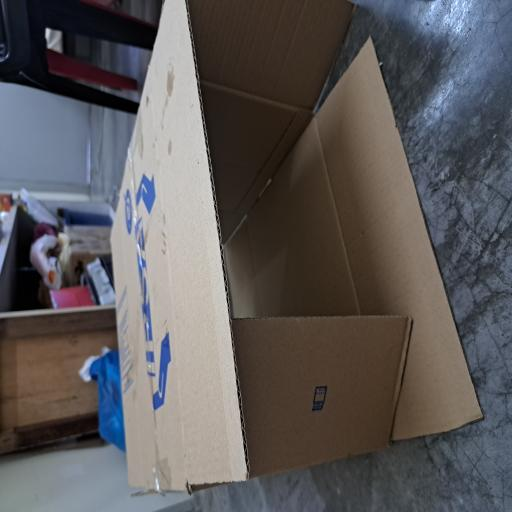cardboard: (17, 151, 384, 512)
plastic bag: (40, 120, 124, 168)
